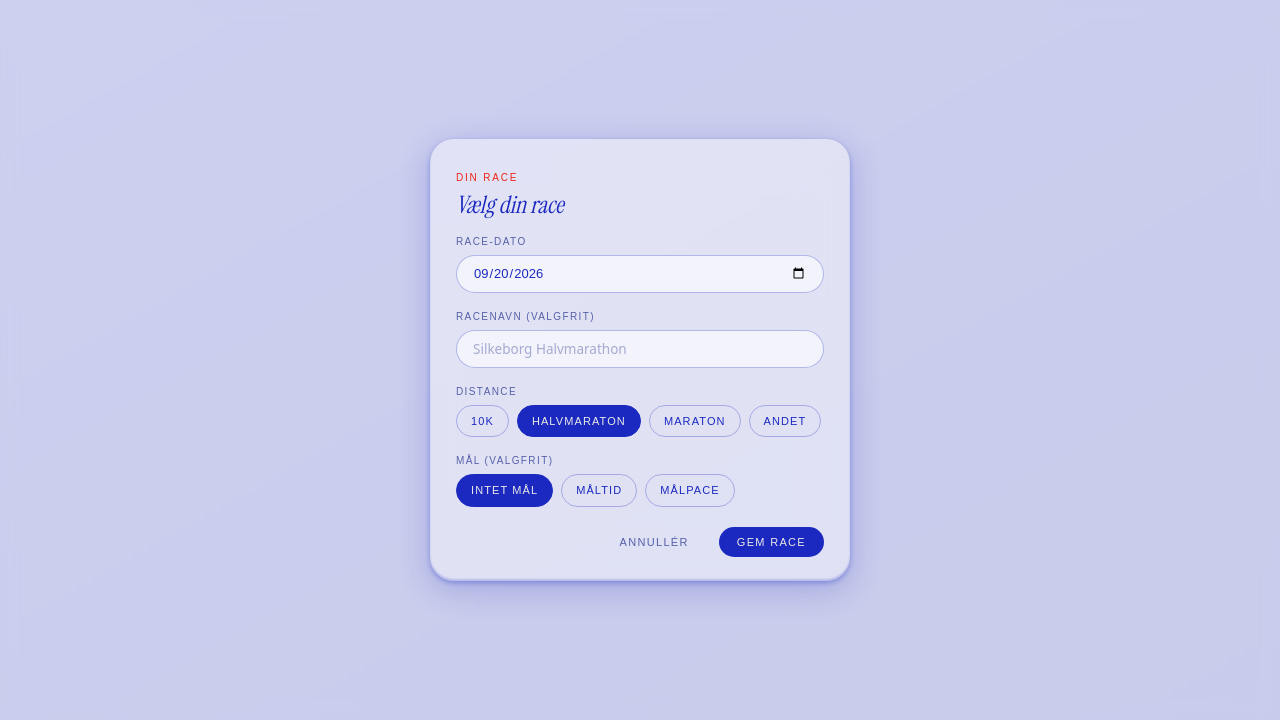
Test case: RaceDateDialog — goal entry (issue #239) › still validates manual colon entry via parseClock and shows the Danish error
The image size is (1280, 720).
Click the button "Måltid": x=599, y=491 [561,474,637,507]
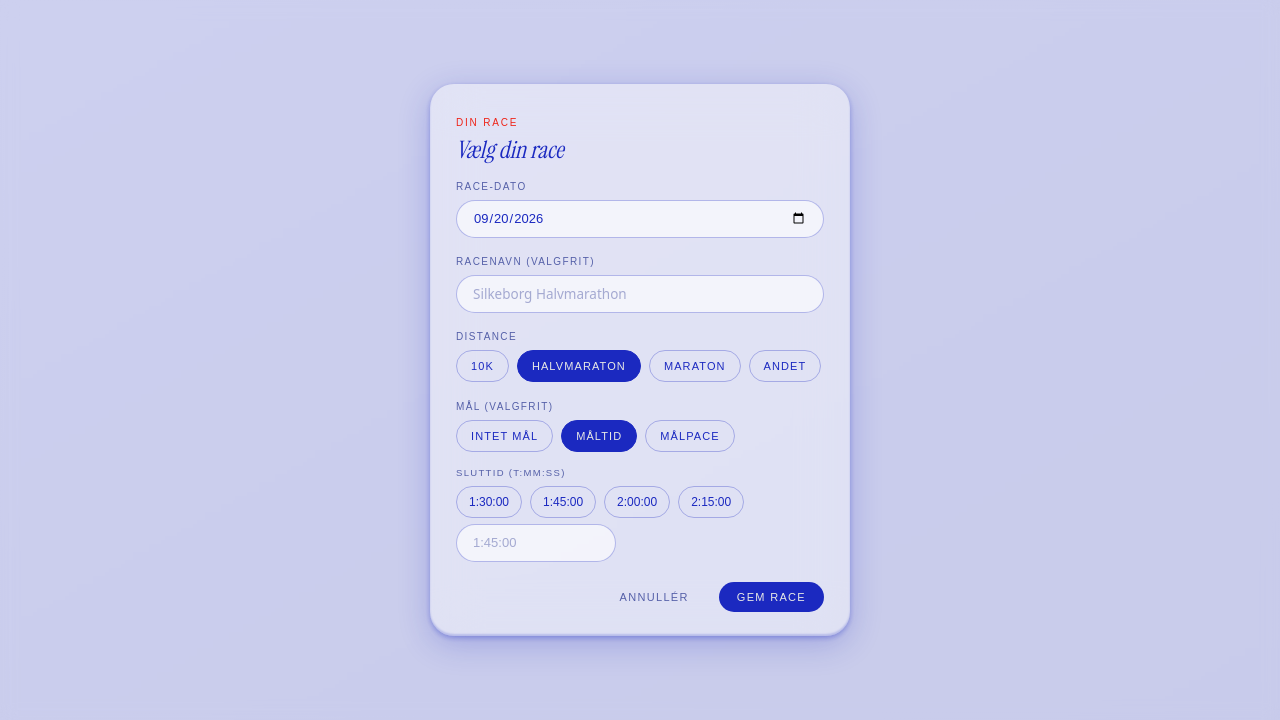
In the field named "Sluttid": x=536, y=543 [456,524,616,562], type "9:99"
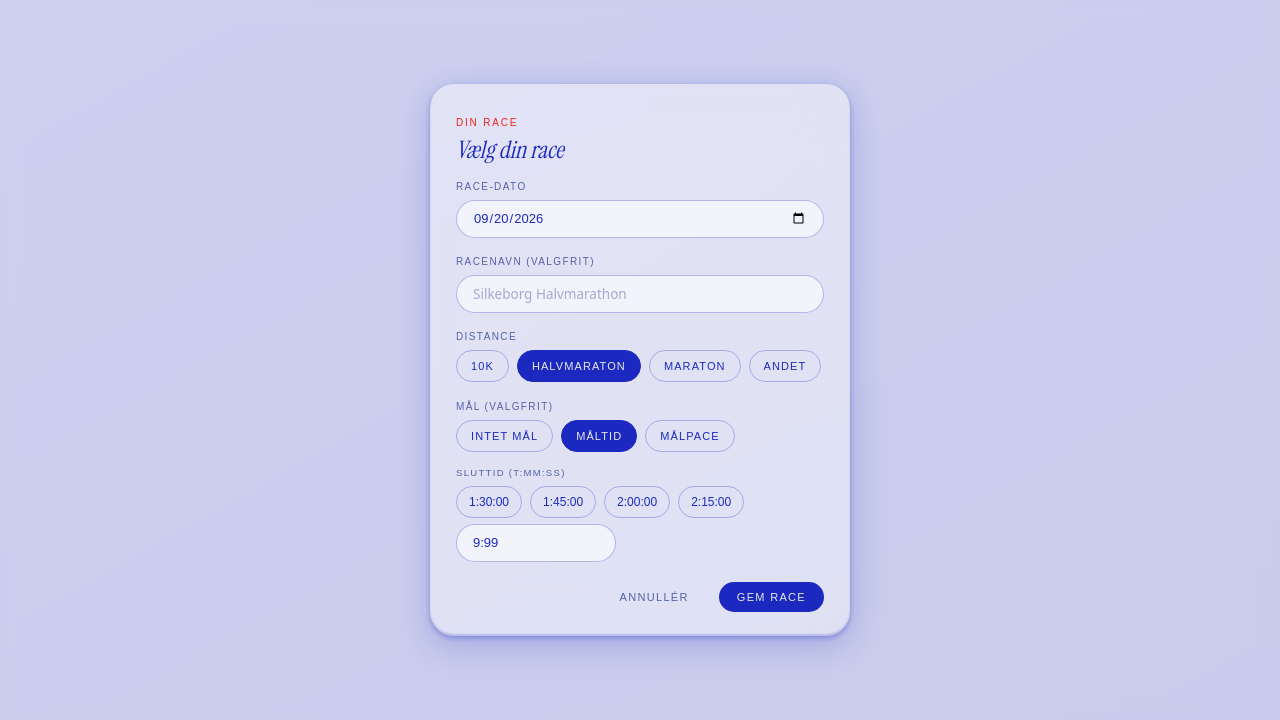
Click the button "Gem race": x=771, y=597 [719,582,824,612]
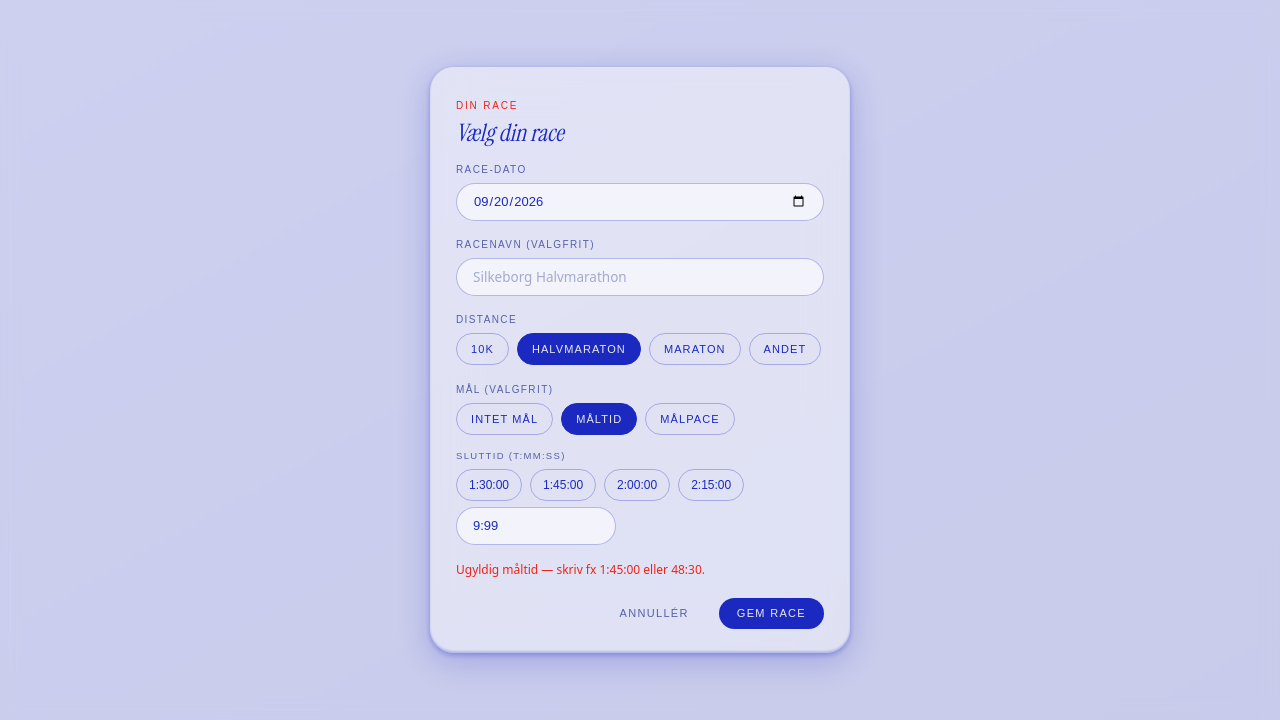
Expected: the text "Ugyldig måltid — skriv fx 1:45:00 eller 48:30." is shown, [456,560,705,578]
